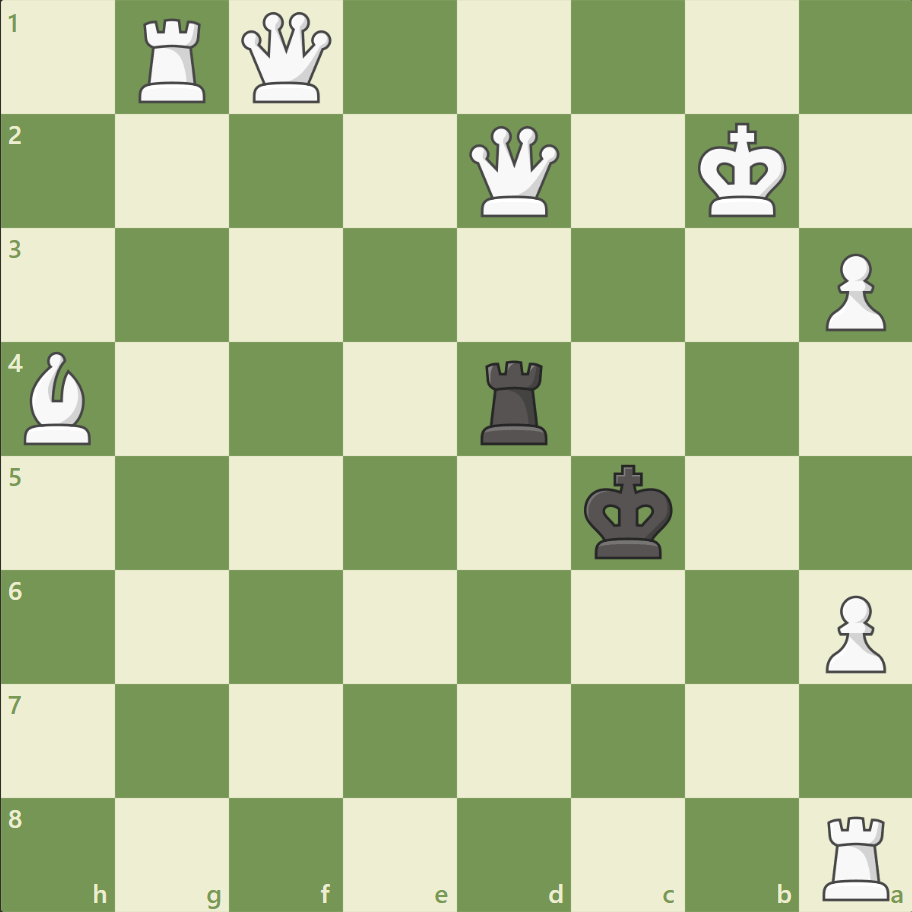B: (17, 347, 101, 449)
K: (692, 117, 792, 225)
P: (815, 586, 889, 677), (815, 246, 889, 337)
Q: (464, 122, 563, 222), (237, 9, 336, 108)
R: (814, 806, 897, 904), (133, 12, 215, 109)
k: (579, 458, 679, 566)
r: (473, 352, 556, 449)
